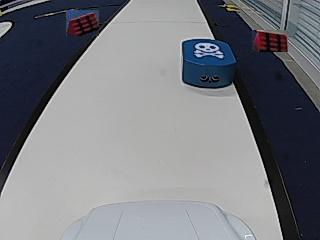danger: (194, 42, 223, 58)
